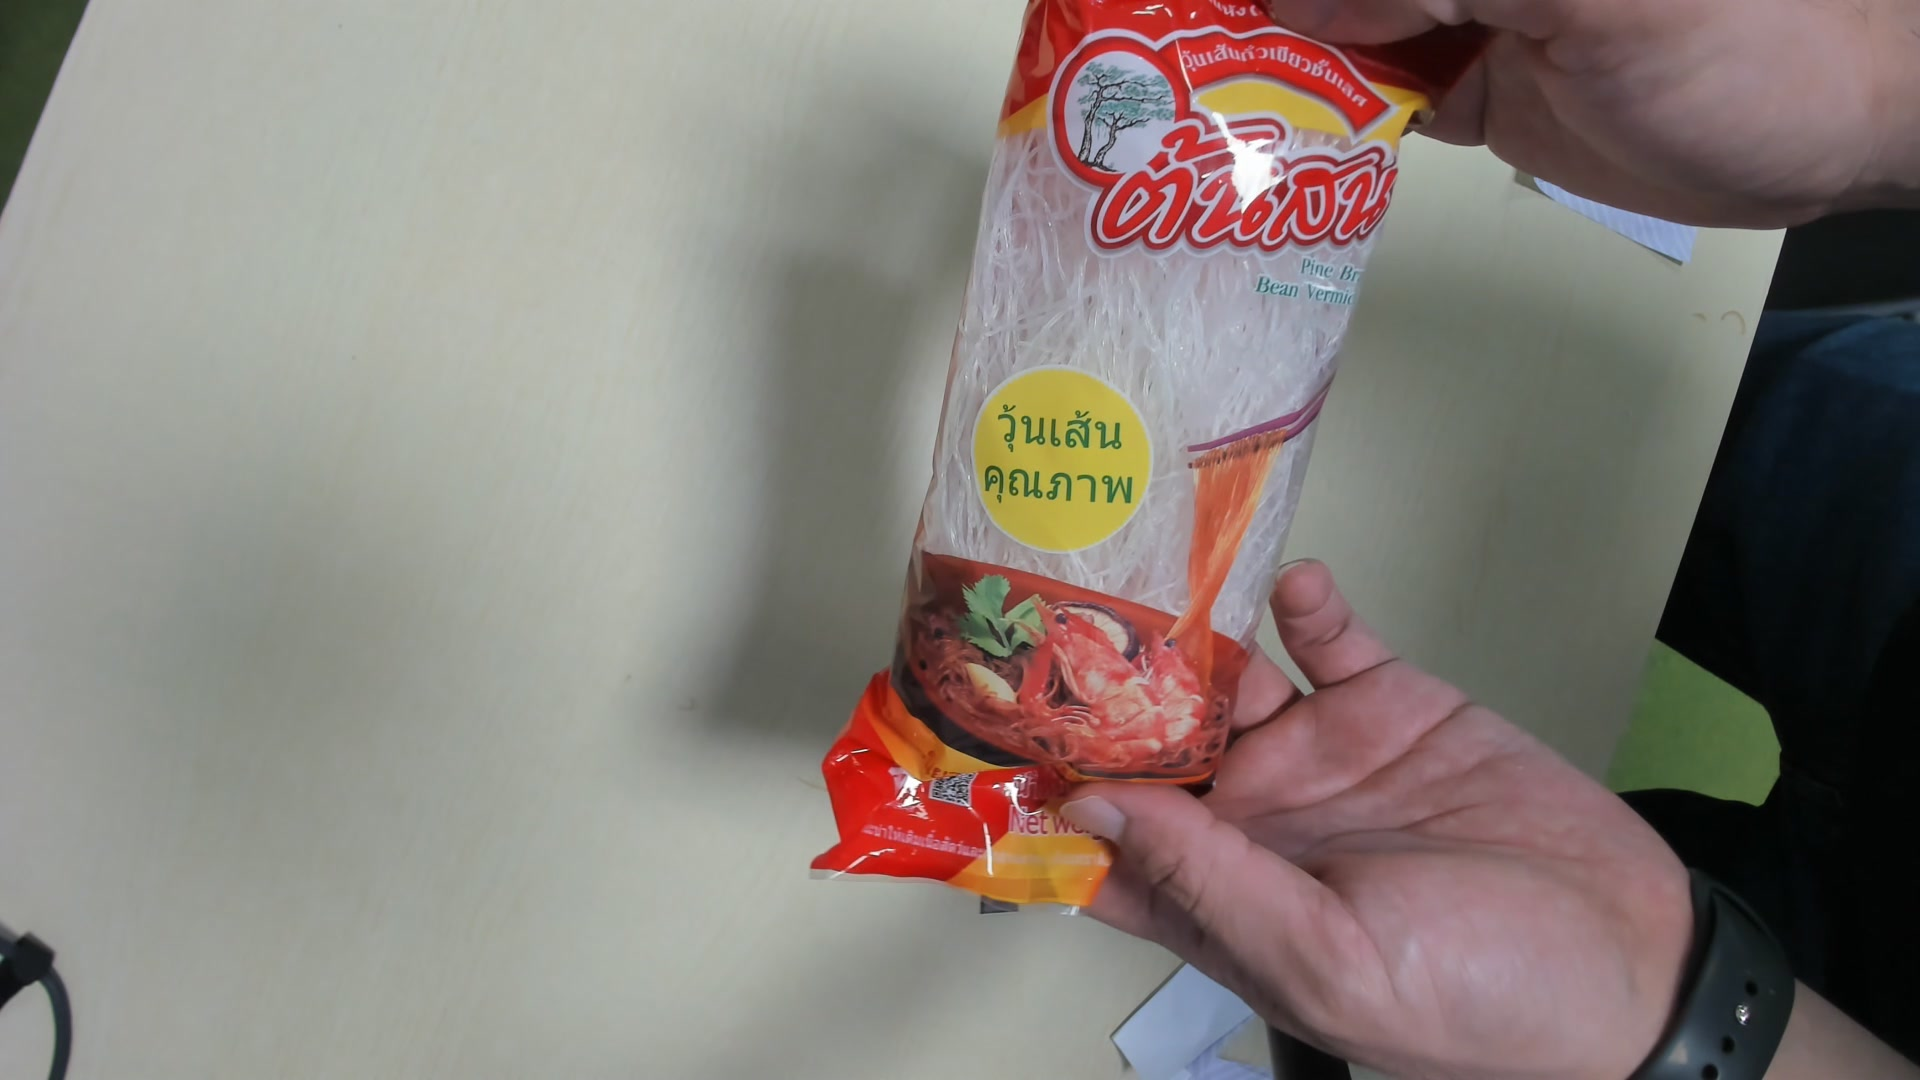BeeHoonVermicelli_0-99g_Halal_NonHealthy: (808, 5, 1433, 909)
